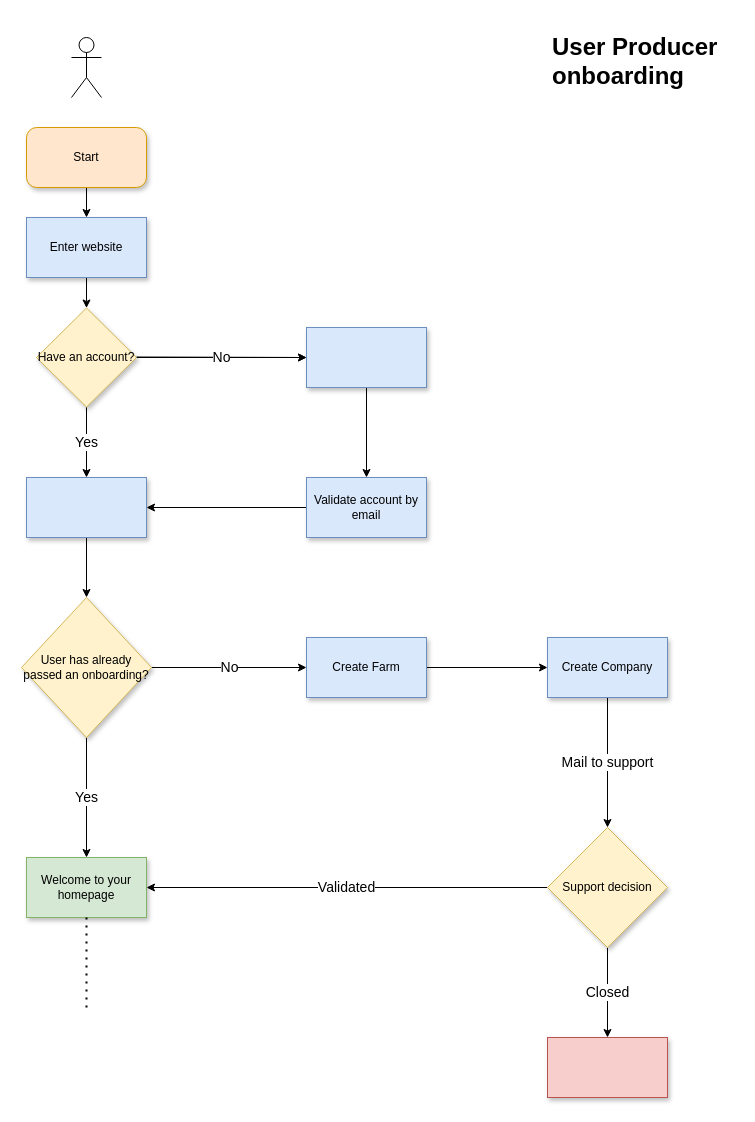
This 755x1122 diagram has some shape labels left out. Each missing label, with the centre of its shape:
"Actor" belongs at point (86, 67).
"Login" belongs at point (87, 508).
"Sign up" belongs at point (367, 358).
"User has error page and is blocked" belongs at point (608, 1068).
